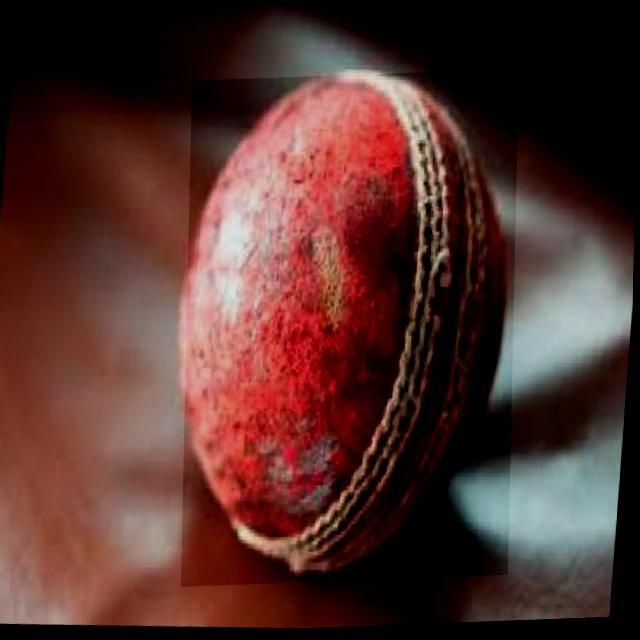Red_Ball: (193, 82, 508, 575)
